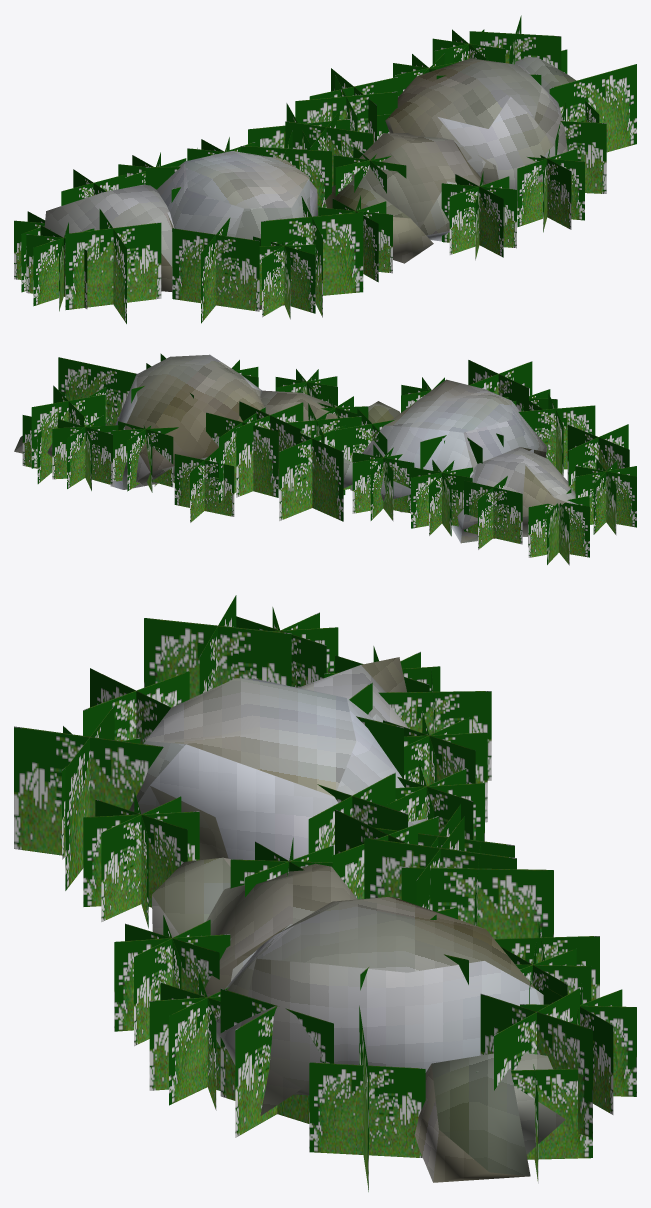
File: stone_scenes.FBX
The picture shows the model from 3 angles, top to bottom: view 1: azimuth 30°, elevation 25°; view 2: azimuth 150°, elevation 25°; view 3: azimuth 270°, elevation 25°; orthographic projection. The views are drawn at different scales.
Parts seen in each view (by area): view 1: Glass, Rock28; view 2: Glass, Rock28; view 3: Glass, Rock28.
Boxes of the visible parts, x1,y1,x2,y2 form: Glass: (14, 15, 636, 323); Rock28: (44, 57, 576, 309); Glass: (22, 353, 636, 565); Rock28: (14, 354, 590, 543); Glass: (14, 595, 636, 1191); Rock28: (129, 657, 565, 1182).
Bounding box in the file's own units: 4.97 × 0.8981 × 2.74.
Materials: 2 (2 with a texture image).
